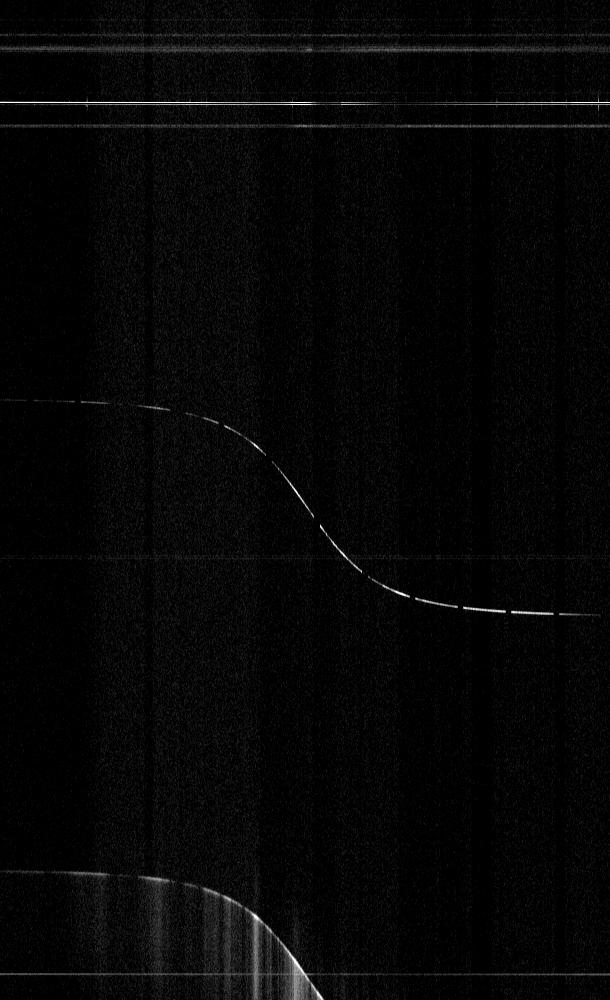signal: (0, 0, 609, 999)
